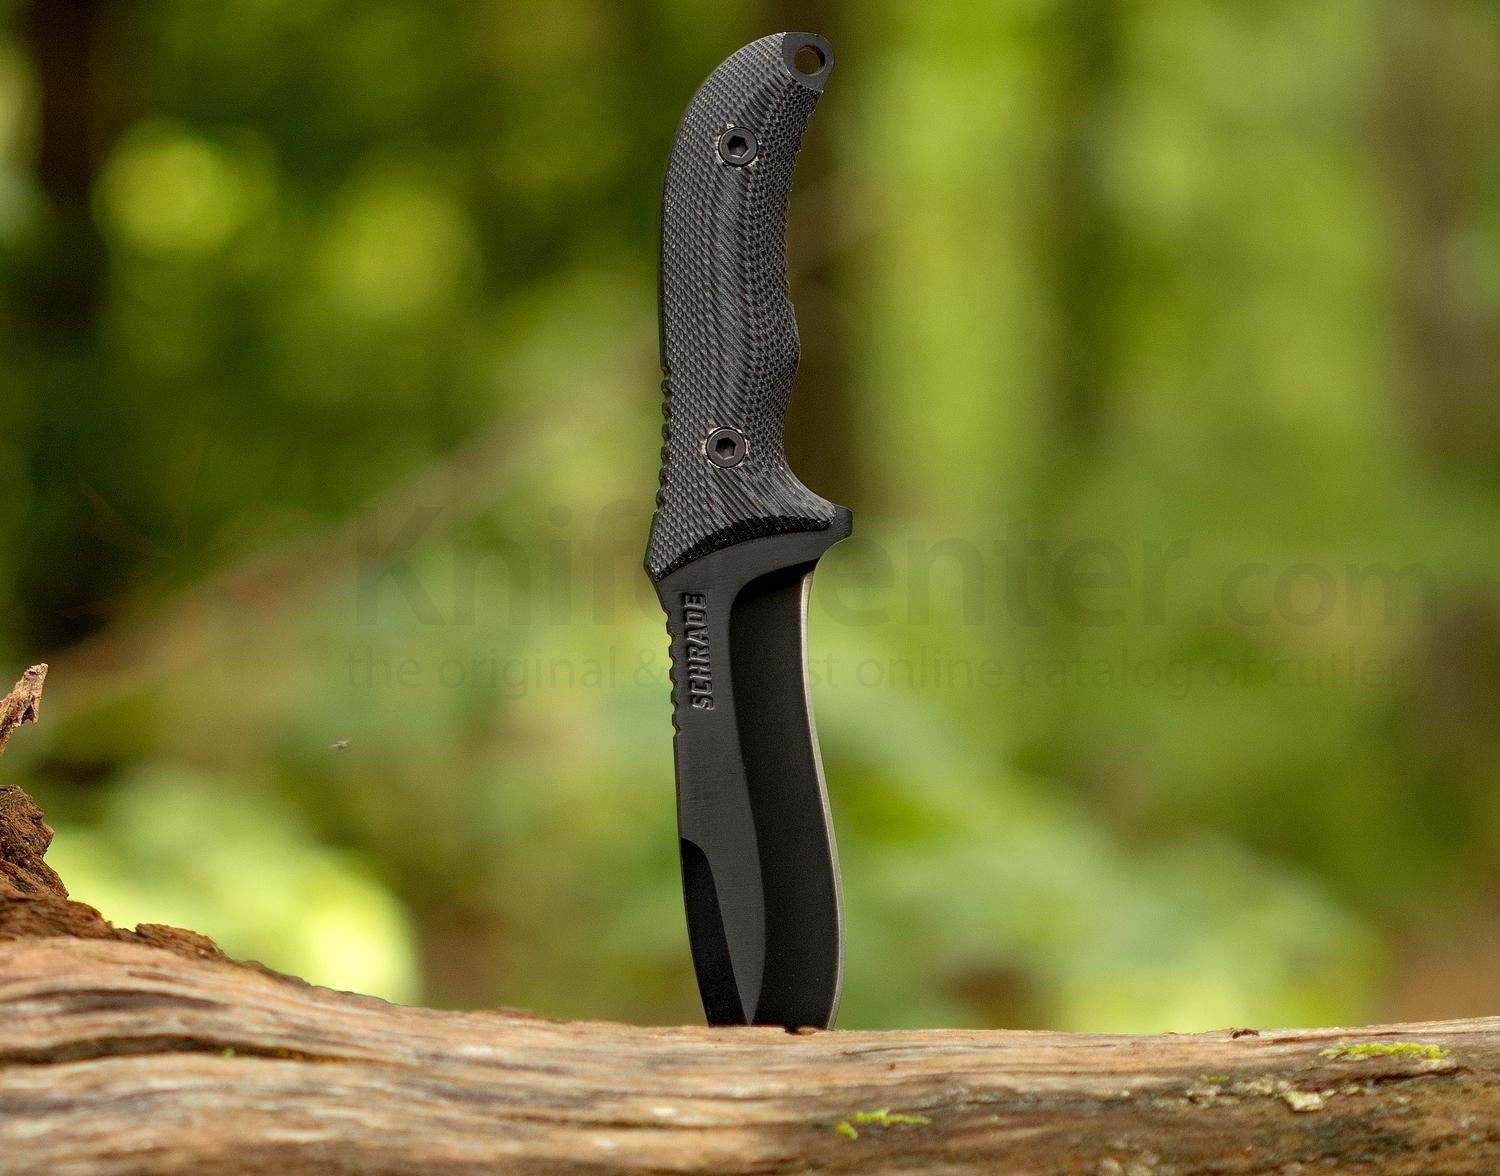knife: (634, 15, 868, 1041)
